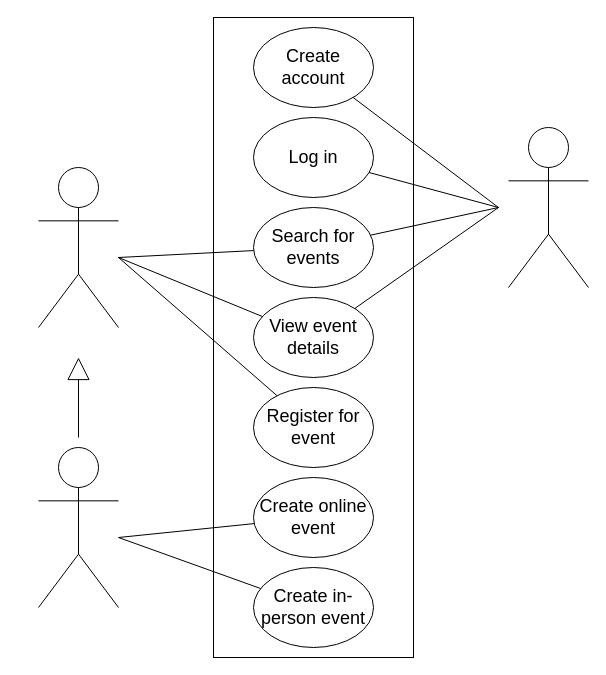
Some shapes in this 606 by 675 pixel diagram are drawn without their labels. Here are the shapes that lost their labels. From the top down, the centre of each, then its label:
At (x=548, y=207): "Guest".
At (x=78, y=247): "Account Holder".
At (x=78, y=527): "Premium User".
